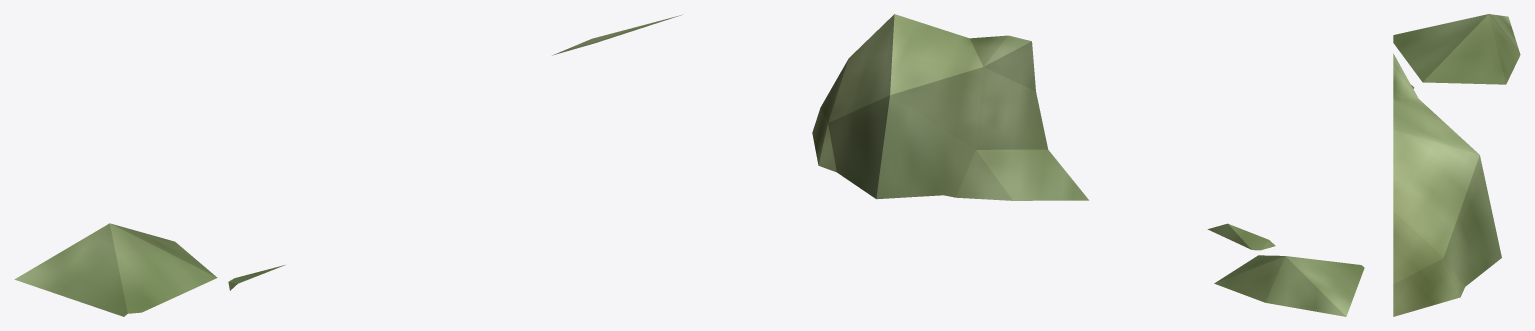
The picture shows the model from 3 angles, left to right: view 1: azimuth 30°, elevation 25°; view 2: azimuth 150°, elevation 25°; view 3: azimuth 270°, elevation 25°; orthographic projection. The views are drawn at different scales.
Size of the model in its own units: 0.6625 by 0.1561 by 0.1185.
Materials: 1 (1 with a texture image).
